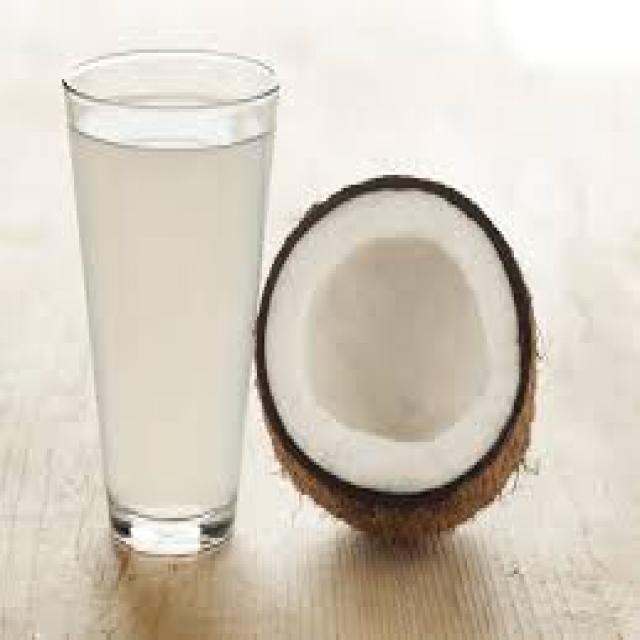coconut: (254, 172, 538, 541)
